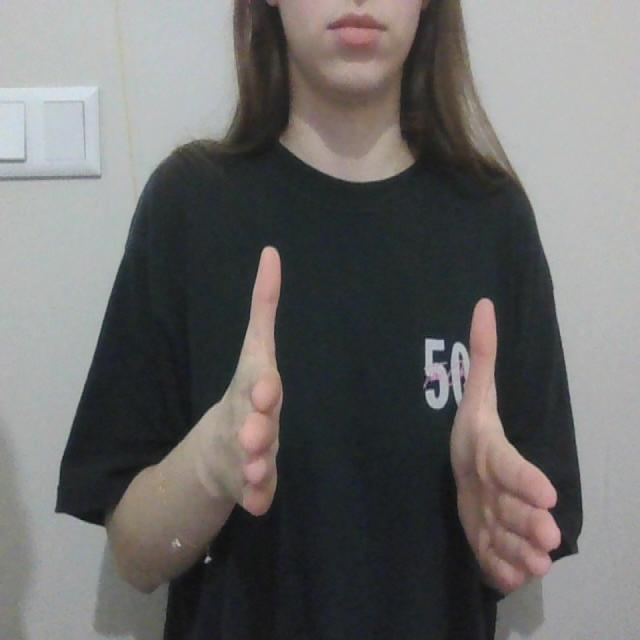Nasil: (214, 245, 569, 598)
